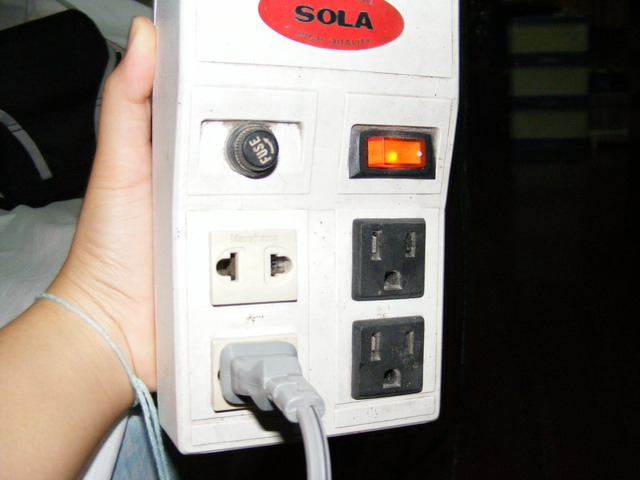Three_eye_plug: (137, 1, 466, 459)
